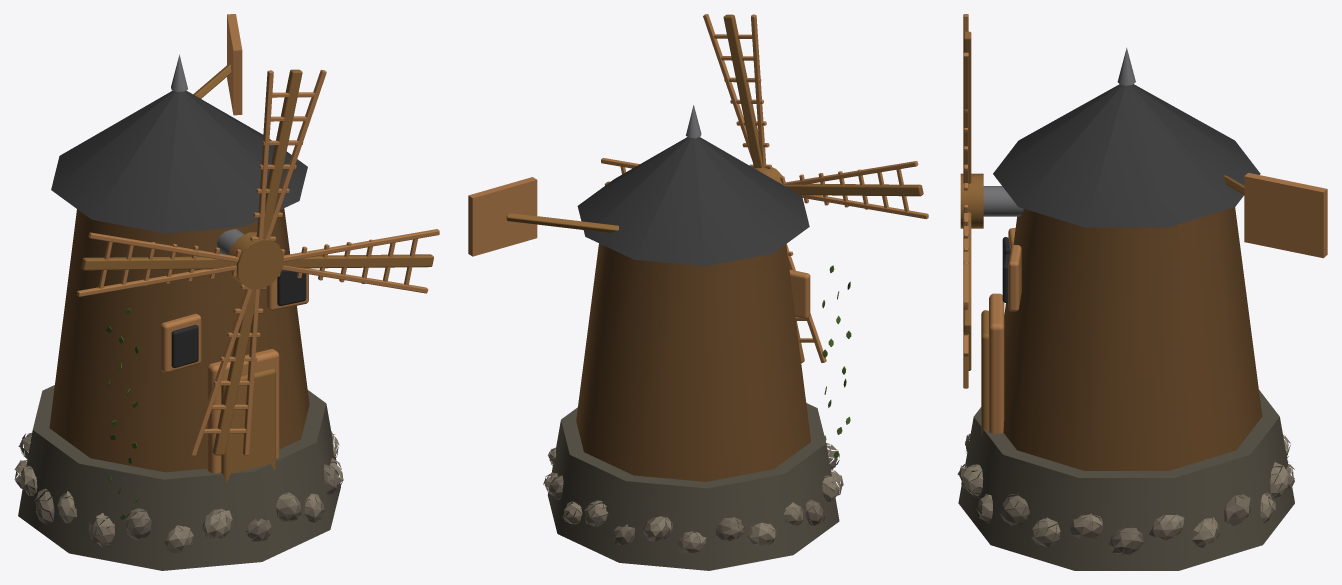
File: decorative-windmill.glb
3 renders of one model, left to right at view 1: azimuth 30°, elevation 25°; view 2: azimuth 150°, elevation 25°; view 3: azimuth 270°, elevation 25°, orthographic. The views are drawn at different scales.
Parts seen in each view (by area): view 1: decorative-windmill-farm-wood-shadow, decorative-windmill-farm-stone-dark, decorative-windmill-farm-roof-slate, decorative-windmill-farm-wood-light, decorative-windmill-farm-wood-dark, decorative-windmill-farm-stone, decorative-windmill-farm-rock, decorative-windmill-farm-window, decorative-windmill-farm-metal; view 2: decorative-windmill-farm-wood-shadow, decorative-windmill-farm-stone-dark, decorative-windmill-farm-roof-slate, decorative-windmill-farm-wood-light, decorative-windmill-farm-wood-dark, decorative-windmill-farm-stone, decorative-windmill-farm-rock; view 3: decorative-windmill-farm-wood-shadow, decorative-windmill-farm-stone-dark, decorative-windmill-farm-roof-slate, decorative-windmill-farm-wood-light, decorative-windmill-farm-stone, decorative-windmill-farm-wood-dark, decorative-windmill-farm-rock, decorative-windmill-farm-metal, decorative-windmill-farm-window.
Part boxes in pixels (x1,y1,x2,y2): decorative-windmill-farm-wood-shadow: (49, 208, 309, 472); decorative-windmill-farm-stone-dark: (18, 385, 340, 570); decorative-windmill-farm-roof-slate: (51, 90, 307, 233); decorative-windmill-farm-wood-light: (77, 14, 439, 473); decorative-windmill-farm-wood-dark: (81, 63, 433, 481); decorative-windmill-farm-stone: (14, 431, 343, 553); decorative-windmill-farm-rock: (18, 432, 339, 541); decorative-windmill-farm-window: (171, 270, 306, 368); decorative-windmill-farm-metal: (171, 54, 244, 254); decorative-windmill-farm-wood-shadow: (576, 243, 810, 481); decorative-windmill-farm-stone-dark: (547, 403, 839, 570); decorative-windmill-farm-roof-slate: (577, 137, 809, 266); decorative-windmill-farm-wood-light: (468, 14, 928, 362); decorative-windmill-farm-wood-dark: (506, 14, 923, 363); decorative-windmill-farm-stone: (543, 447, 843, 553); decorative-windmill-farm-rock: (549, 443, 839, 545); decorative-windmill-farm-wood-shadow: (1003, 207, 1262, 470); decorative-windmill-farm-stone-dark: (958, 390, 1294, 570); decorative-windmill-farm-roof-slate: (993, 84, 1260, 227); decorative-windmill-farm-wood-light: (963, 14, 1327, 433); decorative-windmill-farm-stone: (962, 433, 1291, 548); decorative-windmill-farm-wood-dark: (960, 31, 1244, 435); decorative-windmill-farm-rock: (957, 461, 1294, 554); decorative-windmill-farm-metal: (983, 47, 1135, 216); decorative-windmill-farm-window: (1002, 237, 1010, 302).
Size of the model in its own units: 5.55 by 7.13 by 4.84.
